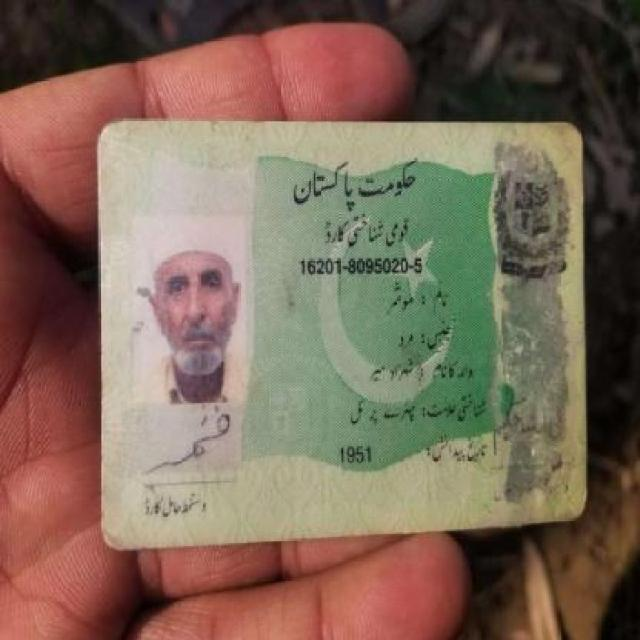Front: (91, 114, 591, 538)
